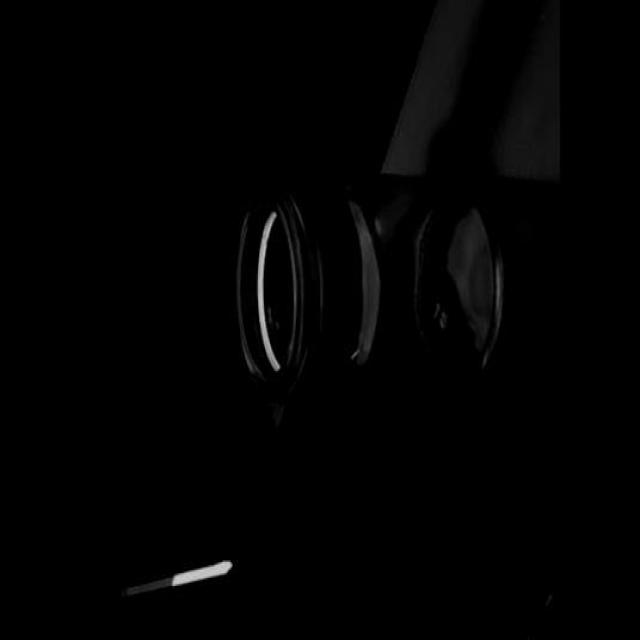defect: (349, 317, 368, 361)
glass: (225, 153, 512, 425)
